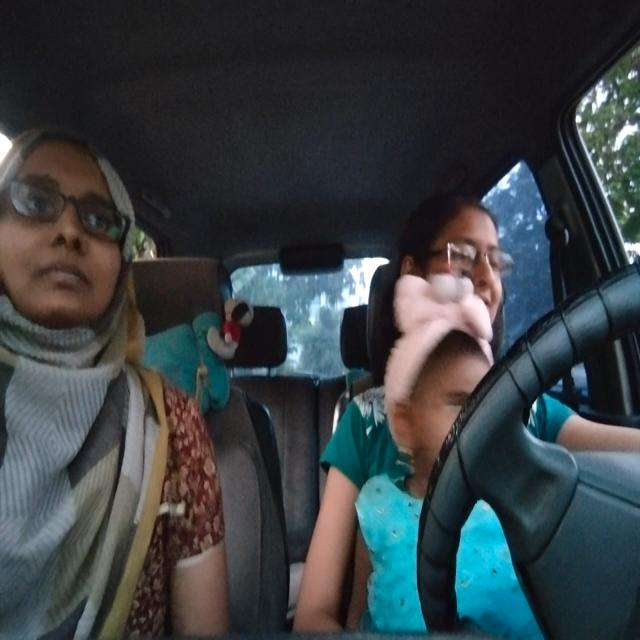child: (374, 334, 504, 502)
person: (0, 108, 159, 416), (422, 179, 521, 309)
